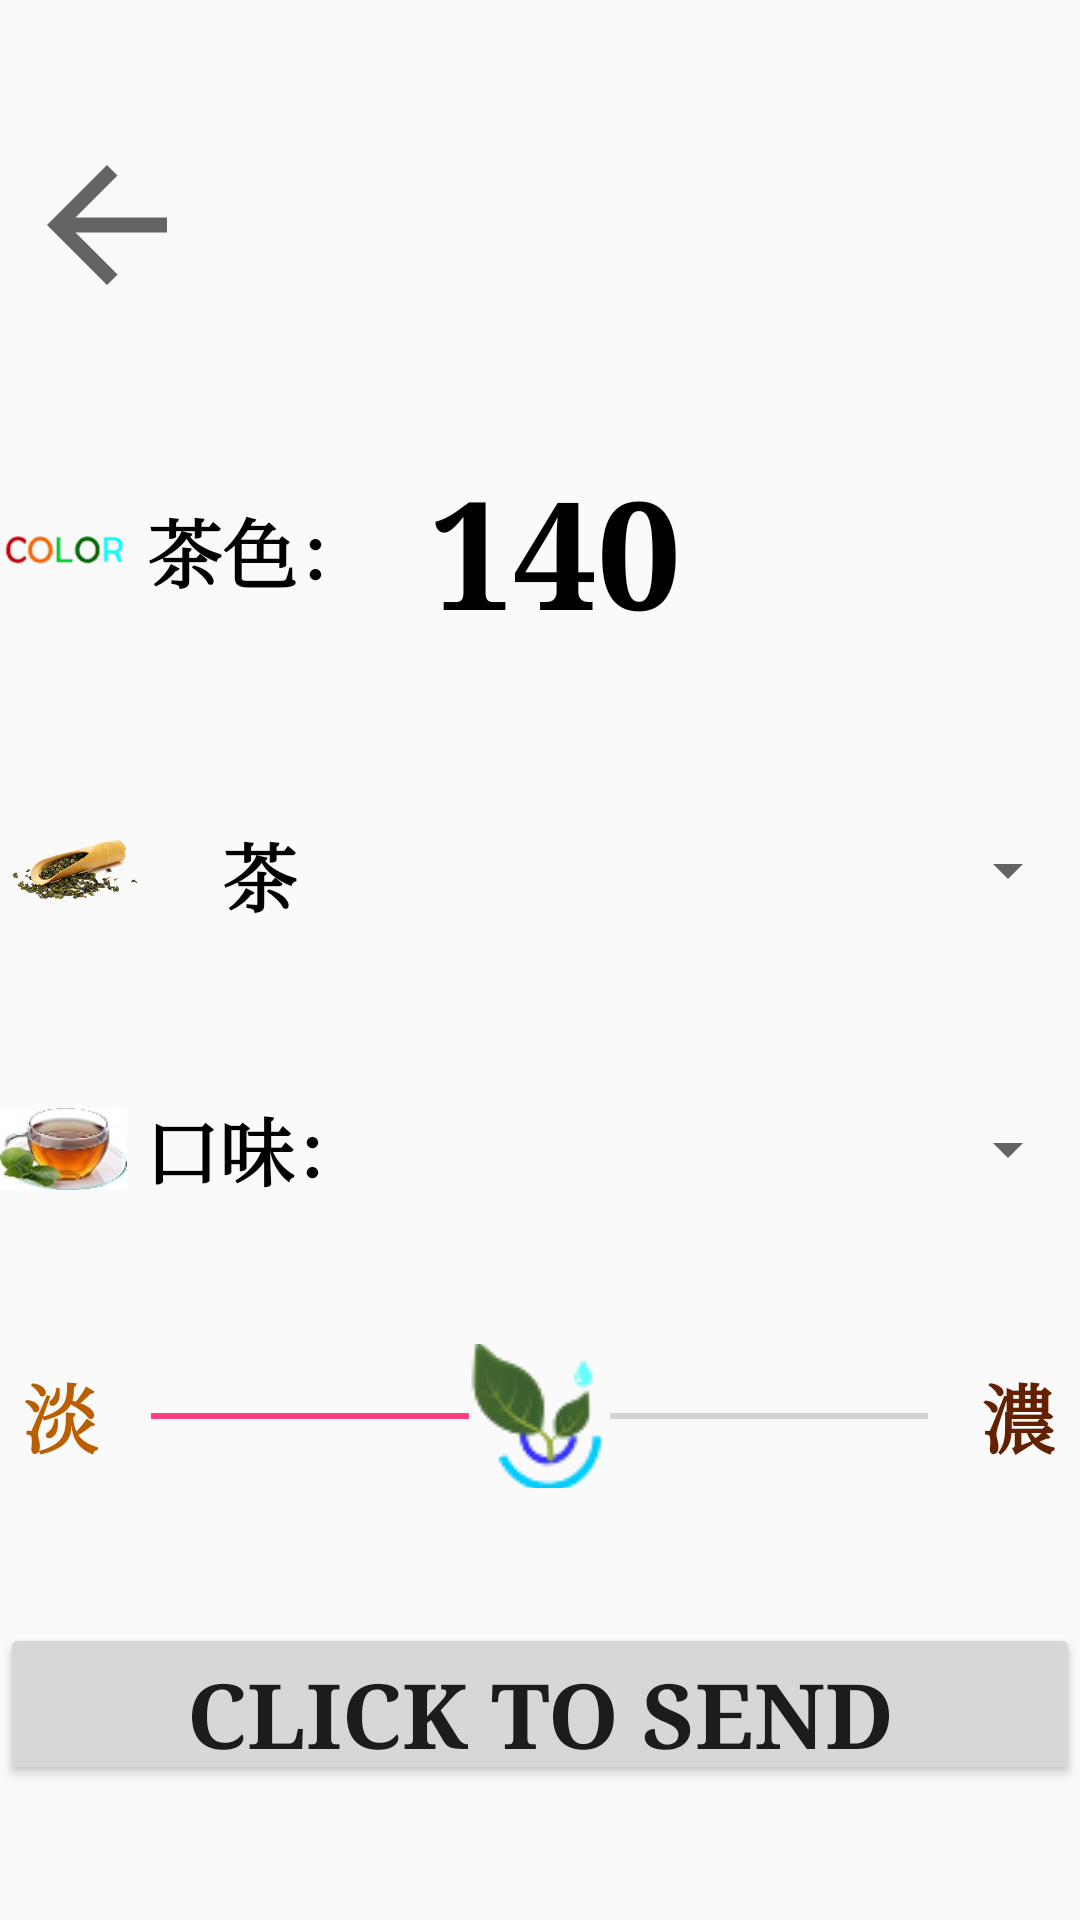

Icons on this 1080 x 1920 Android screen, each with its box as [x1=x1, y1=y1, x2=x2, y2=y2]:
tea: [x1=0, y1=1108, x2=127, y2=1190]
tea leaf: [x1=12, y1=840, x2=137, y2=899]
